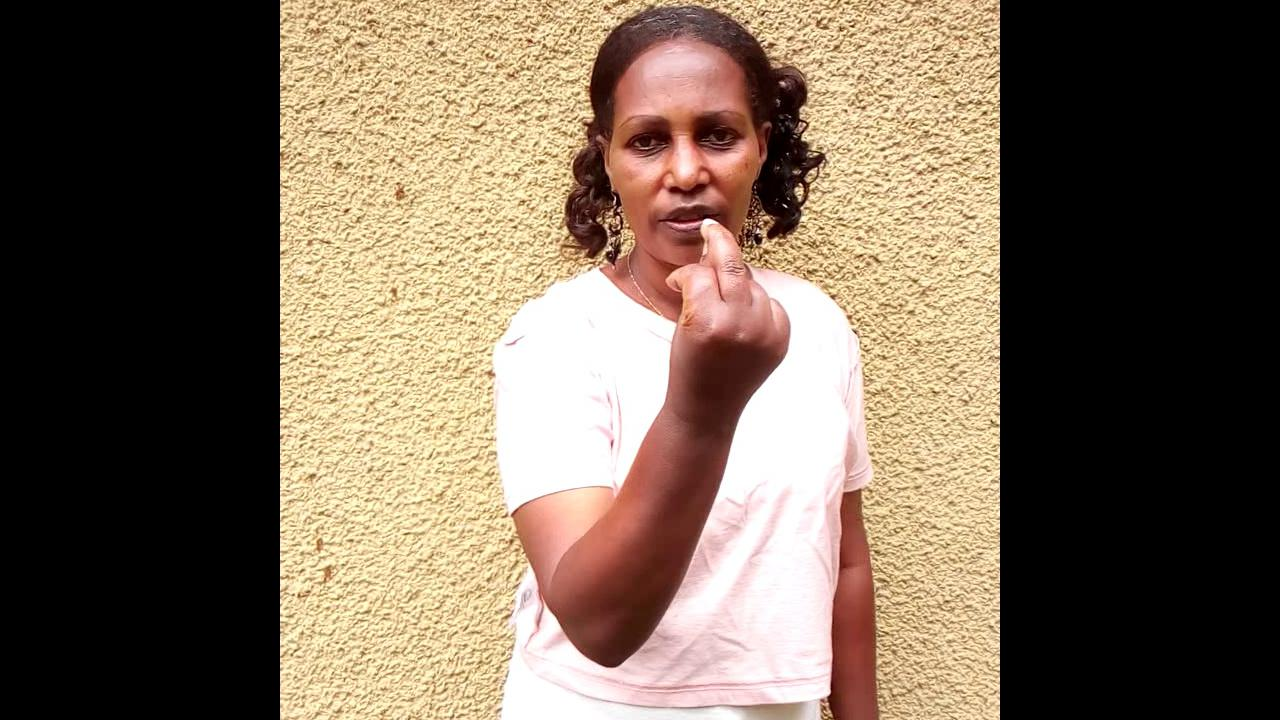CHE: (663, 220, 789, 499)
